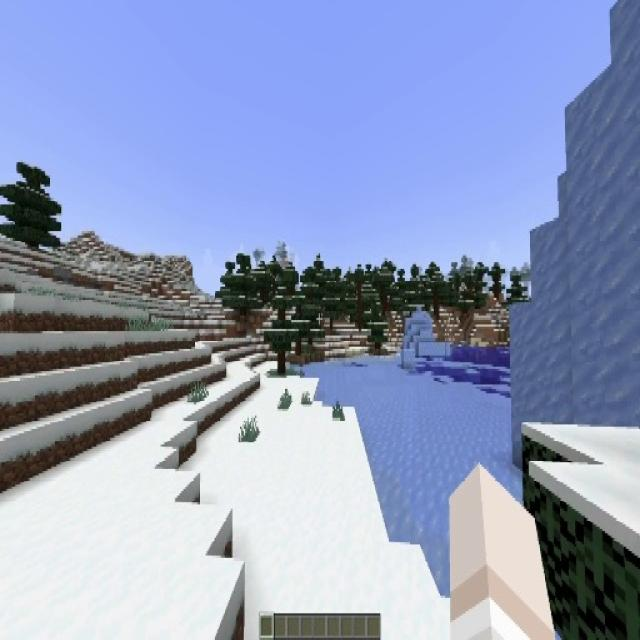spruce: (0, 160, 63, 256), (265, 296, 298, 376)
spruce_log: (358, 284, 362, 332), (278, 353, 286, 375), (434, 300, 439, 318), (296, 339, 302, 354), (278, 309, 285, 321)
